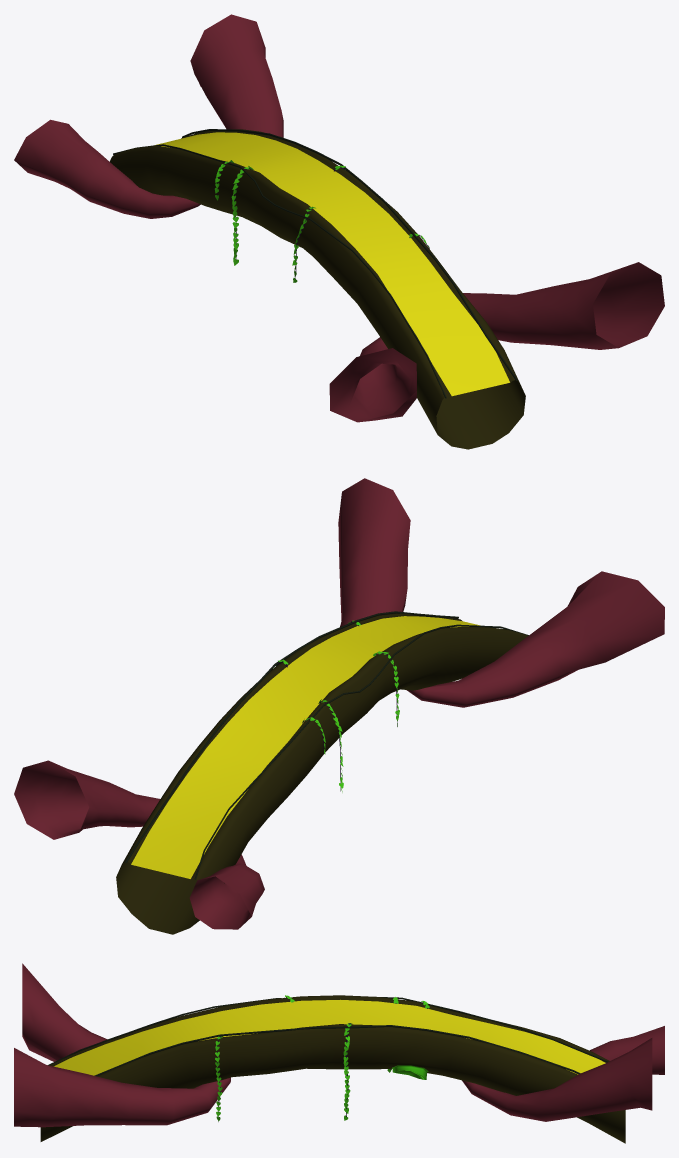
Rendered from SM_WoodBridge_001.fbx.
The picture shows the model from 3 angles, top to bottom: view 1: azimuth 30°, elevation 25°; view 2: azimuth 150°, elevation 25°; view 3: azimuth 270°, elevation 25°; orthographic projection. The views are drawn at different scales.
Visible parts, largest first — view 1: PontClodoFriendly_003; view 2: PontClodoFriendly_003; view 3: PontClodoFriendly_003.
Part boxes in pixels (<box>): PontClodoFriendly_003: <box>14,14,664,449</box>; PontClodoFriendly_003: <box>14,478,664,934</box>; PontClodoFriendly_003: <box>14,963,664,1143</box>.
Bounding box in the file's own units: 34.57 × 16.41 × 66.77.
